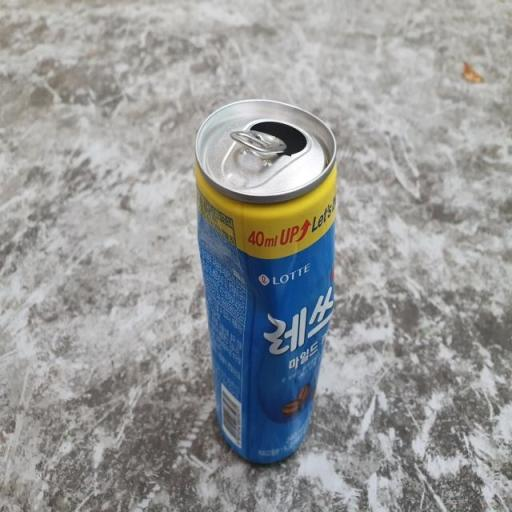metal: (177, 76, 354, 495)
